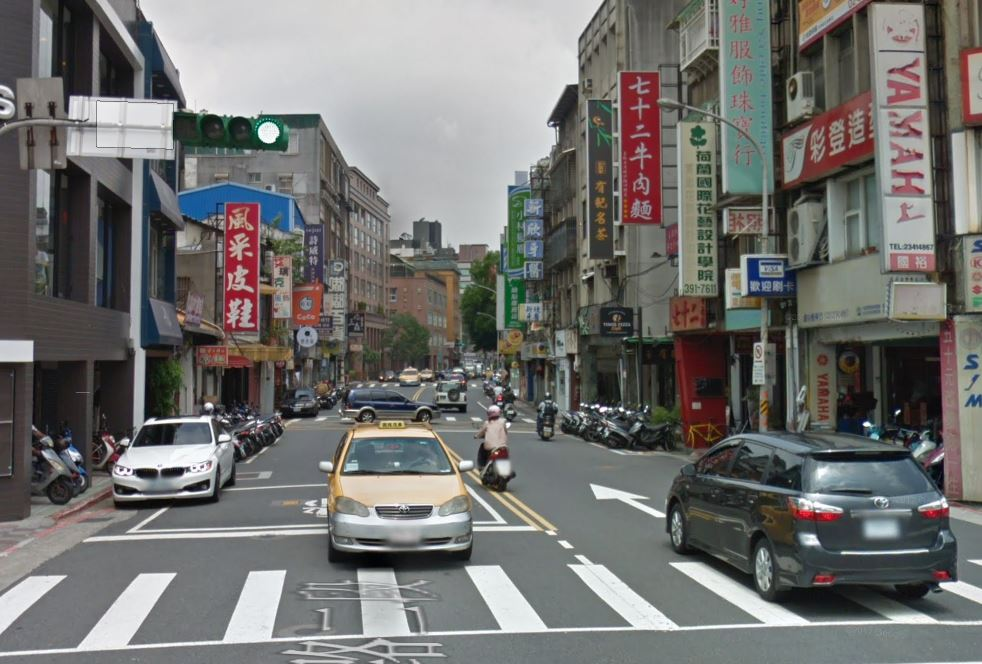Traffic_light_green: (171, 106, 292, 154)
car: (662, 420, 963, 615), (322, 418, 481, 562), (110, 412, 238, 511)
motorcycle: (473, 422, 518, 490)
